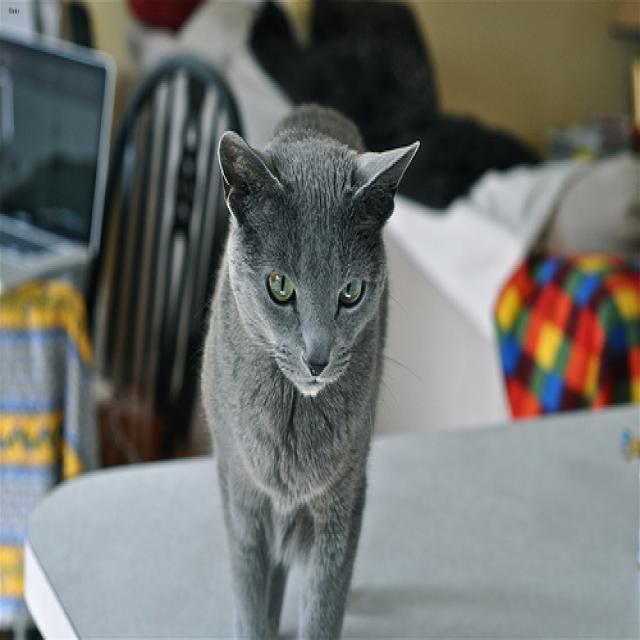Russian_Blue: (216, 119, 424, 402)
